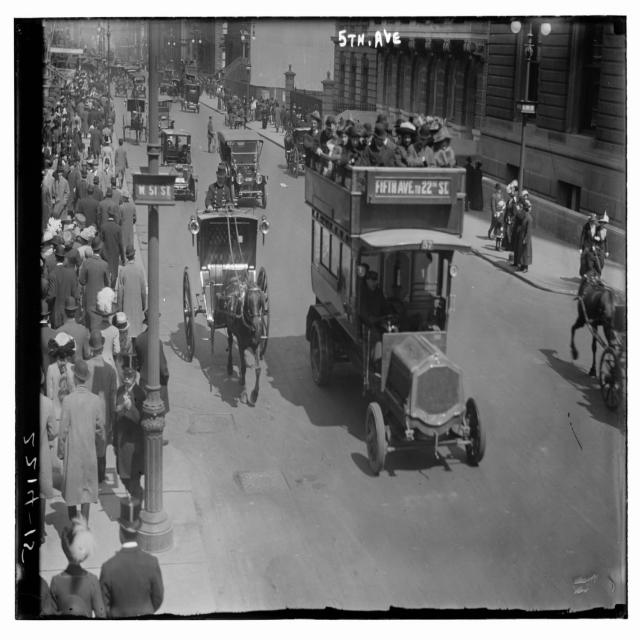body: (100, 496, 164, 618), (57, 358, 105, 520), (47, 522, 107, 640), (110, 352, 147, 512), (83, 328, 118, 484), (46, 333, 77, 477), (10, 526, 49, 640), (132, 307, 171, 417), (359, 270, 398, 372), (404, 239, 448, 319), (89, 286, 122, 390), (116, 244, 146, 351), (39, 367, 56, 546), (80, 236, 112, 331), (357, 123, 399, 193), (47, 243, 80, 329), (55, 295, 91, 365), (38, 298, 61, 399), (99, 205, 125, 292), (110, 310, 137, 387), (76, 227, 95, 326), (393, 120, 426, 168), (118, 189, 137, 267), (405, 124, 438, 168), (339, 124, 370, 168), (51, 164, 70, 235), (204, 164, 232, 212), (578, 212, 598, 277), (58, 74, 109, 99), (372, 114, 396, 167), (40, 171, 52, 275), (329, 126, 349, 186), (510, 196, 526, 268), (157, 66, 186, 105), (432, 125, 458, 168), (77, 184, 100, 231), (66, 159, 82, 226), (593, 213, 610, 276), (518, 202, 533, 273), (63, 230, 81, 288), (503, 179, 518, 245), (384, 110, 444, 126), (488, 183, 504, 241), (50, 120, 76, 154), (46, 234, 66, 276), (302, 111, 323, 151), (114, 138, 130, 190), (470, 160, 486, 212), (99, 187, 120, 225), (319, 115, 338, 155), (229, 140, 257, 167), (74, 168, 90, 214), (462, 156, 475, 212), (88, 158, 106, 198), (493, 199, 506, 252), (188, 75, 216, 98), (40, 159, 56, 198), (85, 146, 96, 202), (42, 99, 71, 119), (291, 101, 311, 128), (102, 158, 114, 198), (164, 135, 178, 169), (101, 135, 114, 171), (76, 58, 105, 74), (40, 258, 50, 302), (108, 176, 122, 206), (110, 66, 133, 84), (90, 175, 105, 202), (72, 119, 82, 159), (40, 230, 54, 256), (42, 119, 54, 148), (80, 160, 92, 187), (176, 144, 192, 164), (272, 102, 282, 134), (105, 106, 115, 136), (207, 116, 215, 153), (82, 100, 91, 132), (337, 115, 361, 127), (361, 122, 374, 143), (82, 105, 90, 139), (283, 108, 292, 138), (101, 120, 112, 144), (521, 189, 532, 213), (87, 104, 98, 127), (67, 96, 76, 122), (72, 110, 81, 136), (94, 104, 104, 127), (241, 95, 248, 124), (61, 158, 70, 180), (77, 98, 85, 122), (92, 98, 100, 122), (260, 106, 268, 130), (41, 139, 51, 158), (107, 96, 114, 122), (248, 96, 255, 122), (386, 126, 399, 140), (233, 96, 241, 118), (100, 94, 107, 118), (103, 100, 110, 124), (279, 104, 285, 132), (215, 87, 222, 110), (79, 142, 87, 162), (131, 84, 140, 100), (327, 144, 332, 172), (74, 155, 82, 172), (271, 101, 276, 128), (74, 94, 79, 120), (329, 131, 339, 144), (175, 136, 183, 152), (222, 92, 228, 112), (226, 86, 232, 106), (84, 246, 93, 259), (52, 154, 61, 167), (266, 102, 270, 127), (248, 97, 252, 118), (86, 159, 92, 172), (258, 94, 264, 105), (266, 97, 279, 101), (89, 99, 93, 109), (515, 187, 519, 196), (61, 154, 70, 158), (65, 158, 69, 166), (71, 154, 75, 162), (222, 83, 225, 90), (51, 167, 57, 170)
